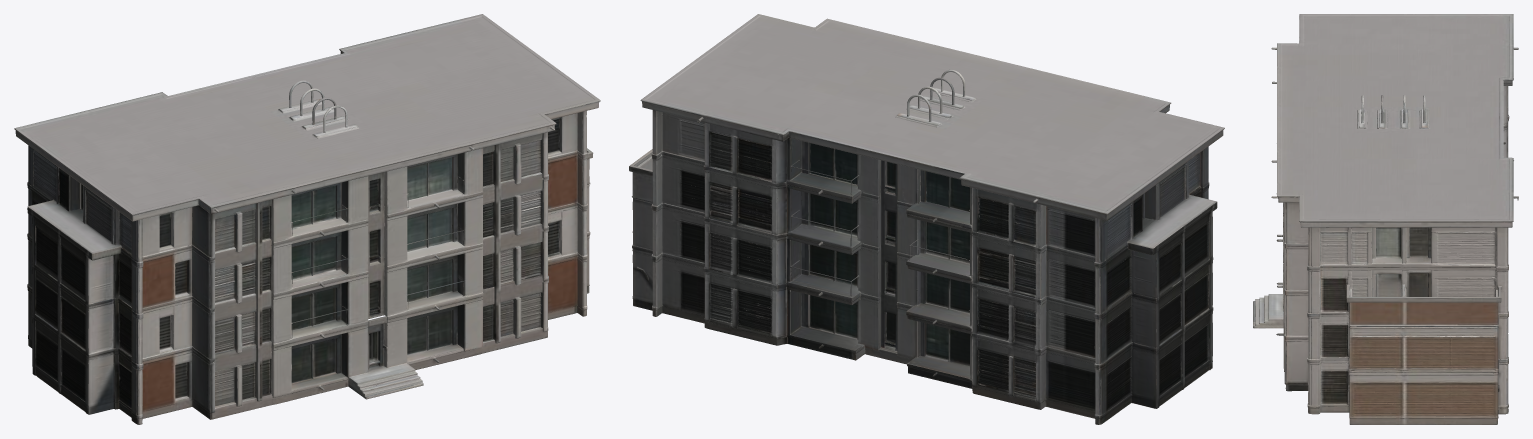
File: logement-batiment.glb
3 views of the same model, side by side, from view 1: azimuth 30°, elevation 25°; view 2: azimuth 150°, elevation 25°; view 3: azimuth 270°, elevation 25° (orthographic). The views are drawn at different scales.
Bounding box in the file's own units: 1.8 × 0.8282 × 0.9085.
Materials: 1 (1 with a texture image).
